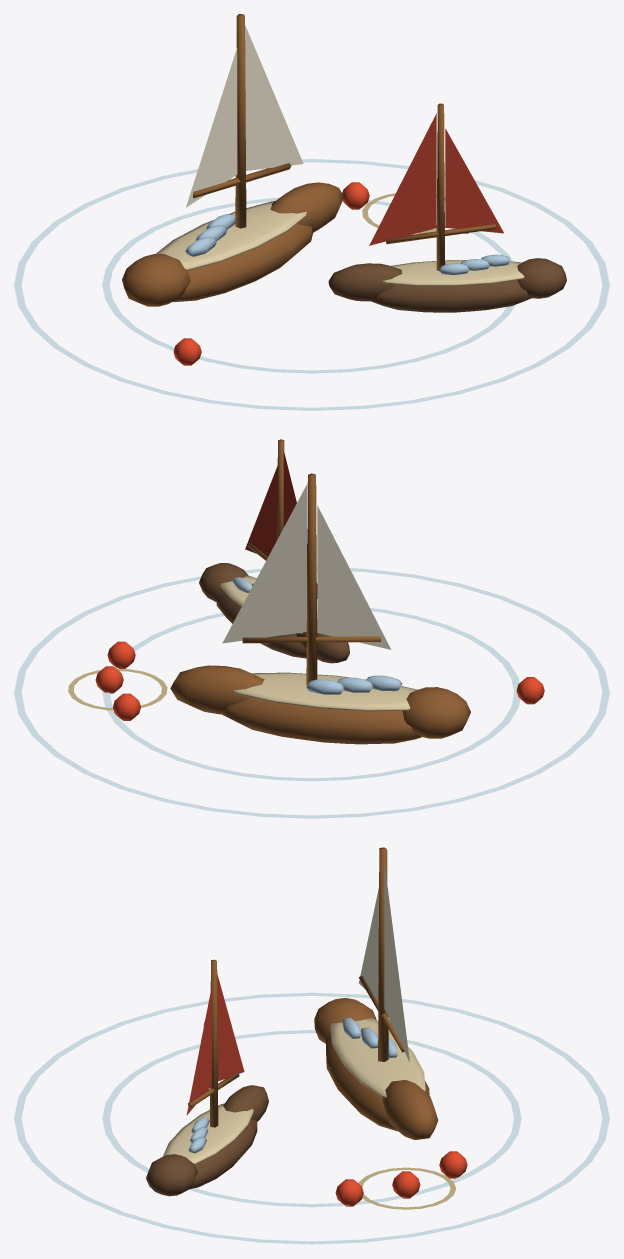
File: improvement_fishing_boats.fbx
3 renders of one model, top to bottom at view 1: azimuth 30°, elevation 25°; view 2: azimuth 150°, elevation 25°; view 3: azimuth 270°, elevation 25°, orthographic.
Visible parts, largest first — view 1: improvement_fishing_boats_foam_ring.005_00, improvement_fishing_boats_hull#8a5a30_01, improvement_fishing_boats_sail#f0e8d4_04, improvement_fishing_boats_hull#6a4a30_06, improvement_fishing_boats_sail#c0402e_07, improvement_fishing_boats_hulltrim_02, improvement_fishing_boats_wood#8a5a2c.005_03, improvement_fishing_boats_fishc_05, improvement_fishing_boats_buoy_08; view 2: improvement_fishing_boats_hull#8a5a30_01, improvement_fishing_boats_sail#f0e8d4_04, improvement_fishing_boats_foam_ring.005_00, improvement_fishing_boats_hulltrim_02, improvement_fishing_boats_wood#8a5a2c.005_03, improvement_fishing_boats_hull#6a4a30_06, improvement_fishing_boats_buoy_08, improvement_fishing_boats_sail#c0402e_07, improvement_fishing_boats_fishc_05, improvement_fishing_boats_net_09; view 3: improvement_fishing_boats_foam_ring.005_00, improvement_fishing_boats_hull#8a5a30_01, improvement_fishing_boats_hulltrim_02, improvement_fishing_boats_hull#6a4a30_06, improvement_fishing_boats_wood#8a5a2c.005_03, improvement_fishing_boats_sail#f0e8d4_04, improvement_fishing_boats_sail#c0402e_07, improvement_fishing_boats_buoy_08, improvement_fishing_boats_fishc_05, improvement_fishing_boats_net_09.
Boxes of the visible parts, x1,y1,x2,y2 form: improvement_fishing_boats_foam_ring.005_00: [14, 159, 609, 410]; improvement_fishing_boats_hull#8a5a30_01: [122, 182, 343, 306]; improvement_fishing_boats_sail#f0e8d4_04: [186, 25, 303, 207]; improvement_fishing_boats_hull#6a4a30_06: [328, 258, 566, 312]; improvement_fishing_boats_sail#c0402e_07: [369, 113, 503, 245]; improvement_fishing_boats_hulltrim_02: [156, 201, 524, 285]; improvement_fishing_boats_wood#8a5a2c.005_03: [193, 14, 496, 271]; improvement_fishing_boats_fishc_05: [185, 214, 509, 274]; improvement_fishing_boats_buoy_08: [173, 182, 468, 365]; improvement_fishing_boats_hull#8a5a30_01: [170, 665, 470, 744]; improvement_fishing_boats_sail#f0e8d4_04: [222, 485, 391, 649]; improvement_fishing_boats_foam_ring.005_00: [14, 567, 609, 818]; improvement_fishing_boats_hulltrim_02: [220, 575, 417, 711]; improvement_fishing_boats_wood#8a5a2c.005_03: [242, 439, 380, 685]; improvement_fishing_boats_hull#6a4a30_06: [199, 563, 349, 663]; improvement_fishing_boats_buoy_08: [95, 641, 544, 720]; improvement_fishing_boats_sail#c0402e_07: [245, 450, 317, 598]; improvement_fishing_boats_fishc_05: [232, 577, 402, 694]; improvement_fishing_boats_net_09: [68, 668, 167, 710]; improvement_fishing_boats_foam_ring.005_00: [14, 992, 609, 1244]; improvement_fishing_boats_hull#8a5a30_01: [314, 998, 438, 1139]; improvement_fishing_boats_hulltrim_02: [163, 1018, 425, 1164]; improvement_fishing_boats_hull#6a4a30_06: [146, 1085, 268, 1196]; improvement_fishing_boats_wood#8a5a2c.005_03: [188, 847, 404, 1127]; improvement_fishing_boats_sail#f0e8d4_04: [359, 862, 409, 1062]; improvement_fishing_boats_sail#c0402e_07: [186, 974, 244, 1115]; improvement_fishing_boats_buoy_08: [203, 1021, 467, 1206]; improvement_fishing_boats_fishc_05: [188, 1018, 397, 1153]; improvement_fishing_boats_net_09: [358, 1167, 456, 1209].
Bounding box in the file's own units: 126 × 60.95 × 126.
